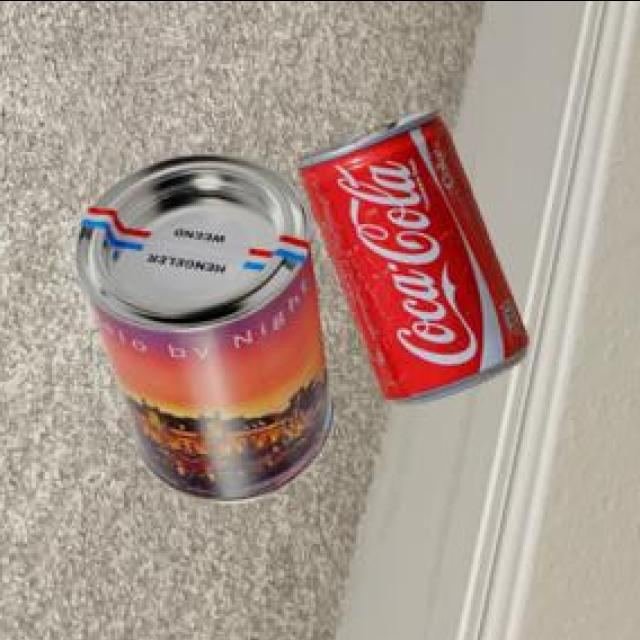logam: (78, 150, 337, 499), (299, 105, 528, 400)
